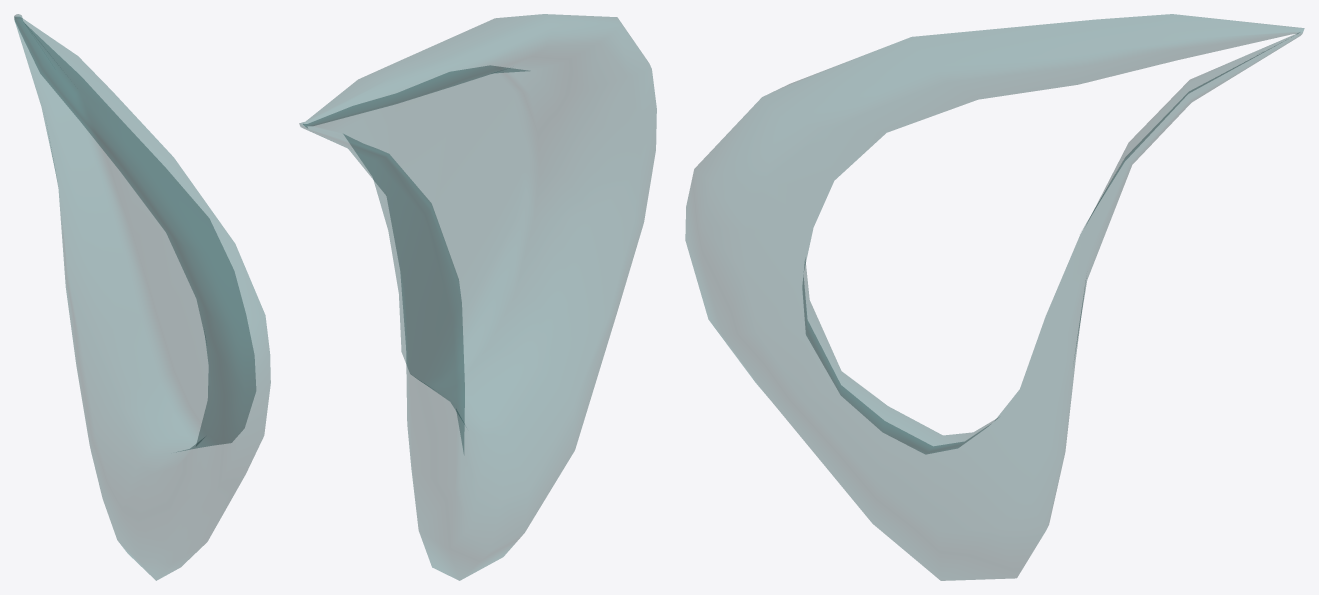
Rendered from Transperent Thalamus_Part_A.gltf.
3 views of the same model, side by side, from view 1: azimuth 30°, elevation 25°; view 2: azimuth 150°, elevation 25°; view 3: azimuth 270°, elevation 25° (orthographic). The views are drawn at different scales.
Visible parts, largest first — view 1: Thalamus_Part_A; view 2: Thalamus_Part_A; view 3: Thalamus_Part_A.
Part boxes in pixels (x1,y1,x2,y2): Thalamus_Part_A: (14, 14, 270, 580); Thalamus_Part_A: (299, 14, 656, 580); Thalamus_Part_A: (685, 14, 1304, 580).
Size of the model in its own units: 0.5708 by 2.66 by 2.69.
